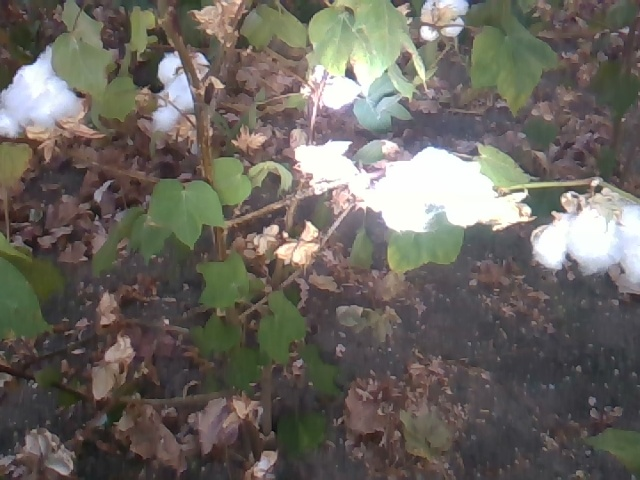cotton: (376, 146, 525, 229), (534, 180, 640, 289), (1, 42, 83, 141), (150, 45, 217, 133), (293, 143, 367, 194), (303, 60, 371, 113), (417, 1, 470, 45)
